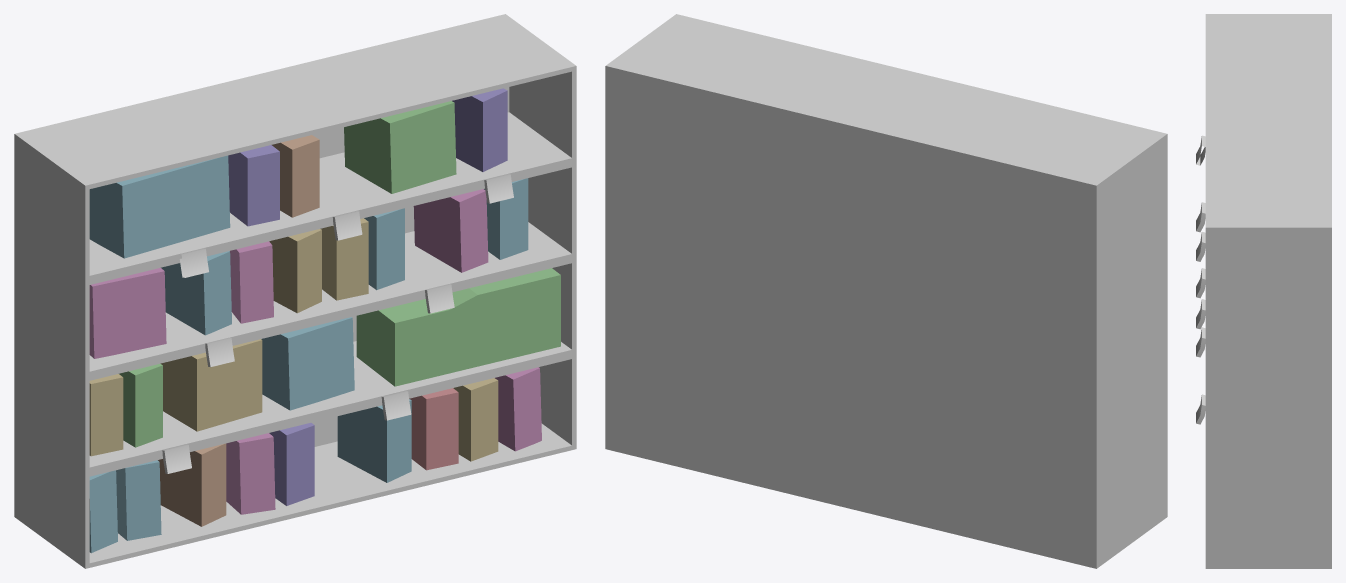
File: ShelfWide04.fbx
3 views of the same model, side by side, from view 1: azimuth 30°, elevation 25°; view 2: azimuth 150°, elevation 25°; view 3: azimuth 270°, elevation 25° (orthographic). The views are drawn at different scales.
Visible parts, largest first — view 1: ShelfWideMesh_4, ProdustShelfWide_4, PriceTags._4; view 2: ShelfWideMesh_4; view 3: ShelfWideMesh_4, PriceTags._4.
Boxes of the visible parts, x1,y1,x2,y2 form: ShelfWideMesh_4: [14, 14, 576, 568]; ProdustShelfWide_4: [89, 88, 560, 553]; PriceTags._4: [162, 174, 513, 473]; ShelfWideMesh_4: [605, 14, 1167, 568]; ShelfWideMesh_4: [1205, 14, 1331, 568]; PriceTags._4: [1196, 135, 1205, 424].
Size of the model in its own units: 4 by 2.98 by 1.08.
